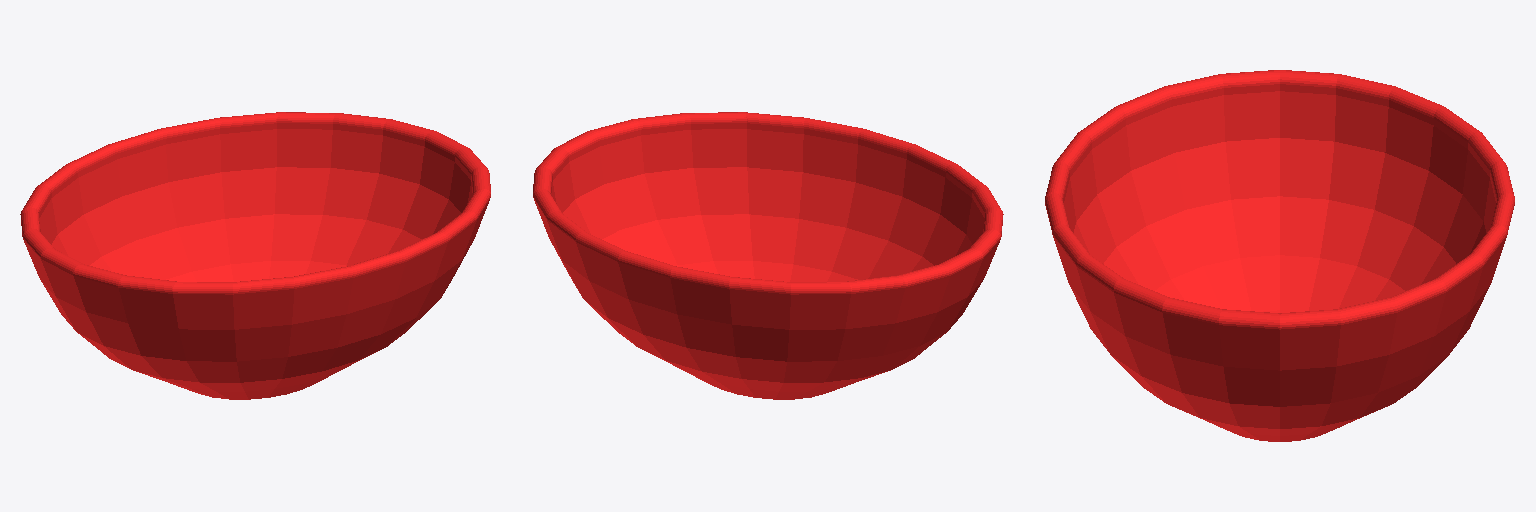
URDF robot description (bowl):
<?xml version="0.0" ?>
<robot name="bowl">
    <link concave="yes" name="base_link">
        <!-- <contact>
            <lateral_friction value="3.0"/>
            <rolling_friction value="3.0"/>
            <spinning_friction value="3.0"/>
        </contact> -->
        <inertial>
            <origin xyz="0 0 0.03"/>
            <mass value="1"/>
            <inertia ixx="1" ixy="0" ixz="0" iyy="1" iyz="0" izz="1"/>
        </inertial>
        <visual>
            <origin xyz="0 0 0"/>
            <geometry>
                <mesh filename="bowl.obj" scale="0.014 0.011 0.013"/>
            </geometry>
      <material name="bowl">
        <color rgba="1 0.2 0.2 1"/>
        <specular rgb="1 1 1"/>
      </material>
        </visual>
        <collision concave="yes">
            <origin xyz="0 0 0"/>
            <geometry>
                <mesh filename="bowl.obj" scale="0.014 0.011 0.013"/>
            </geometry>
        </collision>
    </link>
</robot>

--- Render facts (derived) ---
3 views of the same robot in one strip: view 1: azimuth 30°, elevation 25°; view 2: azimuth 150°, elevation 25°; view 3: azimuth 270°, elevation 25° (orthographic).
Robot: bowl — 1 links, 0 joints (none); root link base_link; default pose: every joint at zero.
Links seen in each view (by area): view 1: base_link; view 2: base_link; view 3: base_link.
Link boxes in pixels (x1,y1,x2,y2): base_link: [20, 112, 490, 399]; base_link: [533, 112, 1003, 399]; base_link: [1045, 70, 1514, 441].
Size in the robot's own frame: 0.1147 by 0.0901 by 0.0442 metres.
1 mesh visuals loaded from 1 distinct referenced files (1 OBJ).